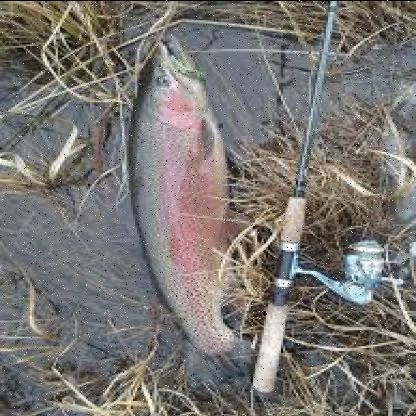fish: (121, 33, 271, 395)
